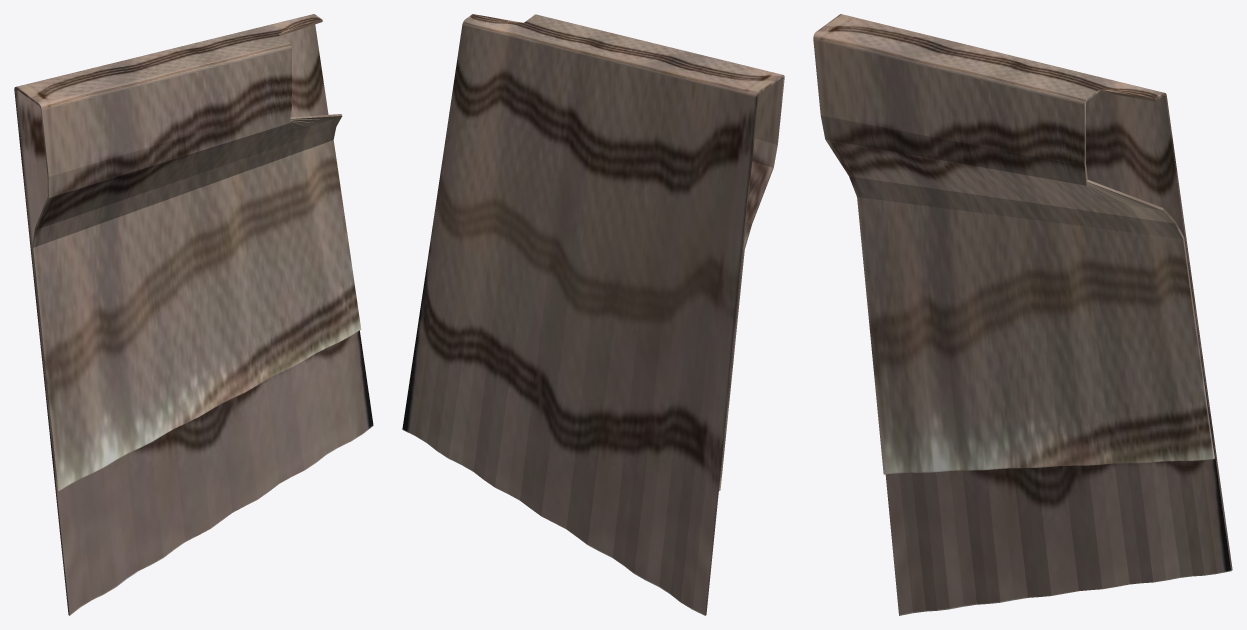
The picture shows the model from 3 angles, left to right: view 1: azimuth 30°, elevation 25°; view 2: azimuth 150°, elevation 25°; view 3: azimuth 330°, elevation 25°; orthographic projection. The views are drawn at different scales.
Visible parts, largest first — view 1: cloth; view 2: cloth; view 3: cloth.
Boxes of the visible parts, <box> form: cloth: <box>14,14,373,615</box>; cloth: <box>402,14,784,615</box>; cloth: <box>813,14,1232,615</box>.
Size of the model in its own units: 0.2619 by 0.378 by 0.0359.
Materials: 1 (1 with a texture image).
